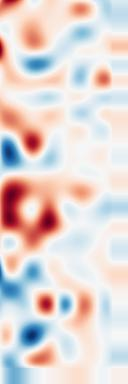filament: (0, 173, 68, 239)
